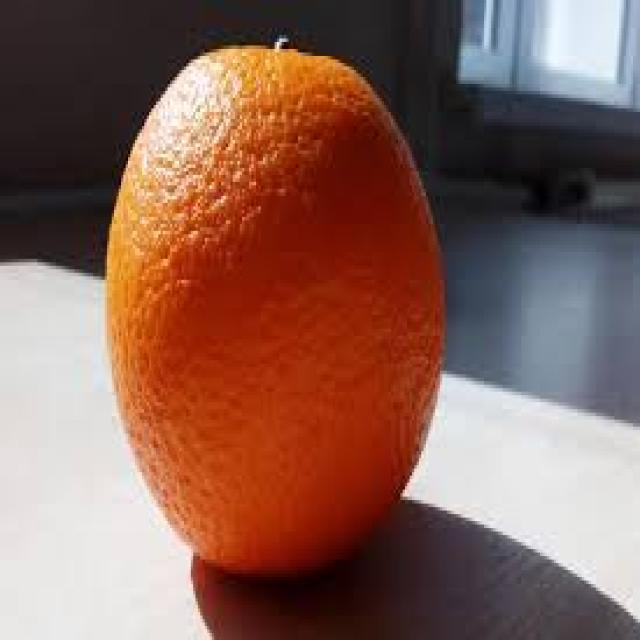Orange: (103, 39, 448, 581)
